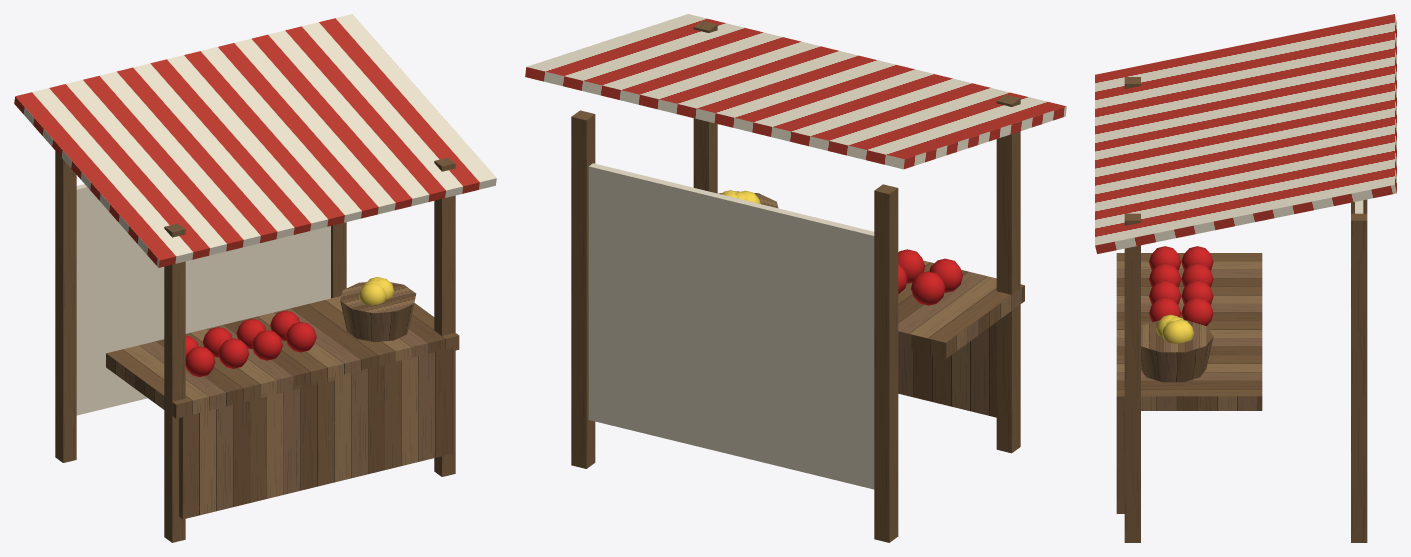
File: stall.glb
The picture shows the model from 3 angles, left to right: view 1: azimuth 30°, elevation 25°; view 2: azimuth 150°, elevation 25°; view 3: azimuth 270°, elevation 25°; orthographic projection. The views are drawn at different scales.
Visible parts, largest first — view 1: stall; view 2: stall; view 3: stall.
Part boxes in pixels (<box>): stall: <box>14,14,496,542</box>; stall: <box>525,14,1066,542</box>; stall: <box>1095,14,1396,542</box>.
Bounding box in the file's own units: 2.5 × 2.54 × 1.87.
Materials: 5 (2 with a texture image).
